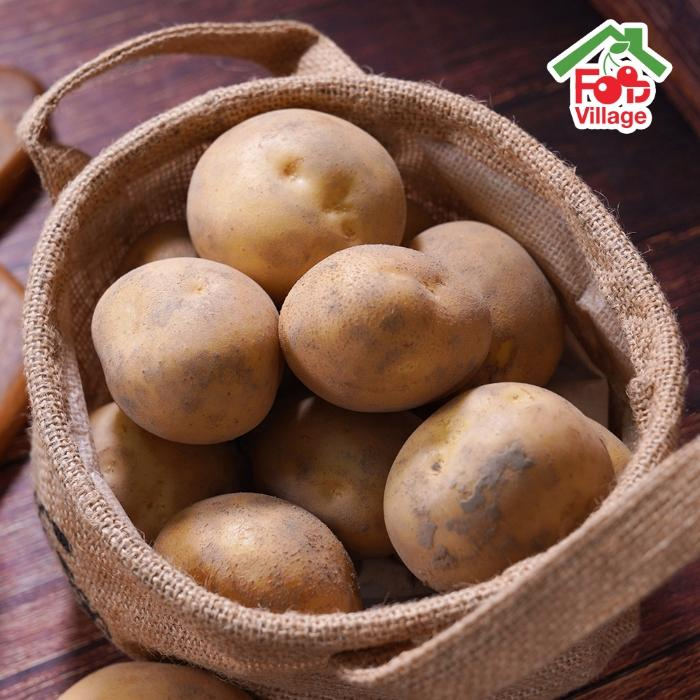potato: (196, 106, 448, 294), (417, 423, 662, 615), (90, 282, 310, 488), (330, 273, 548, 453)
